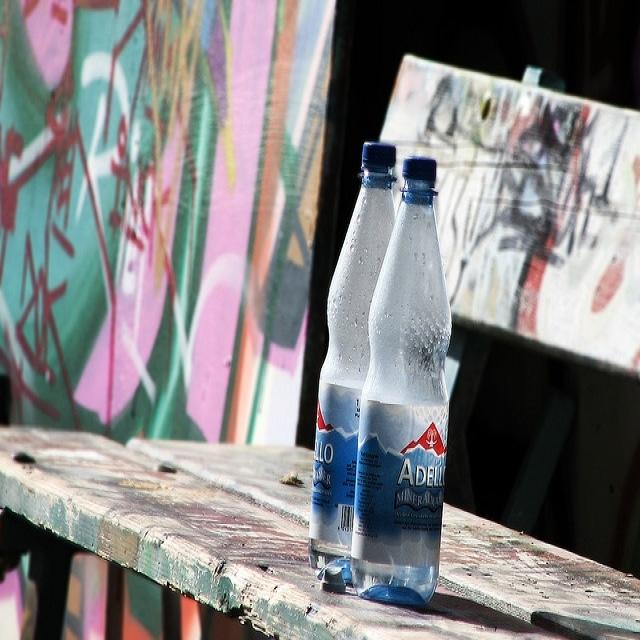Plastics: (301, 118, 454, 620)
